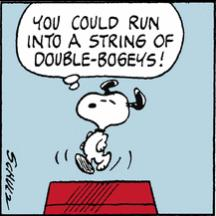snoopy: (73, 77, 148, 175)
